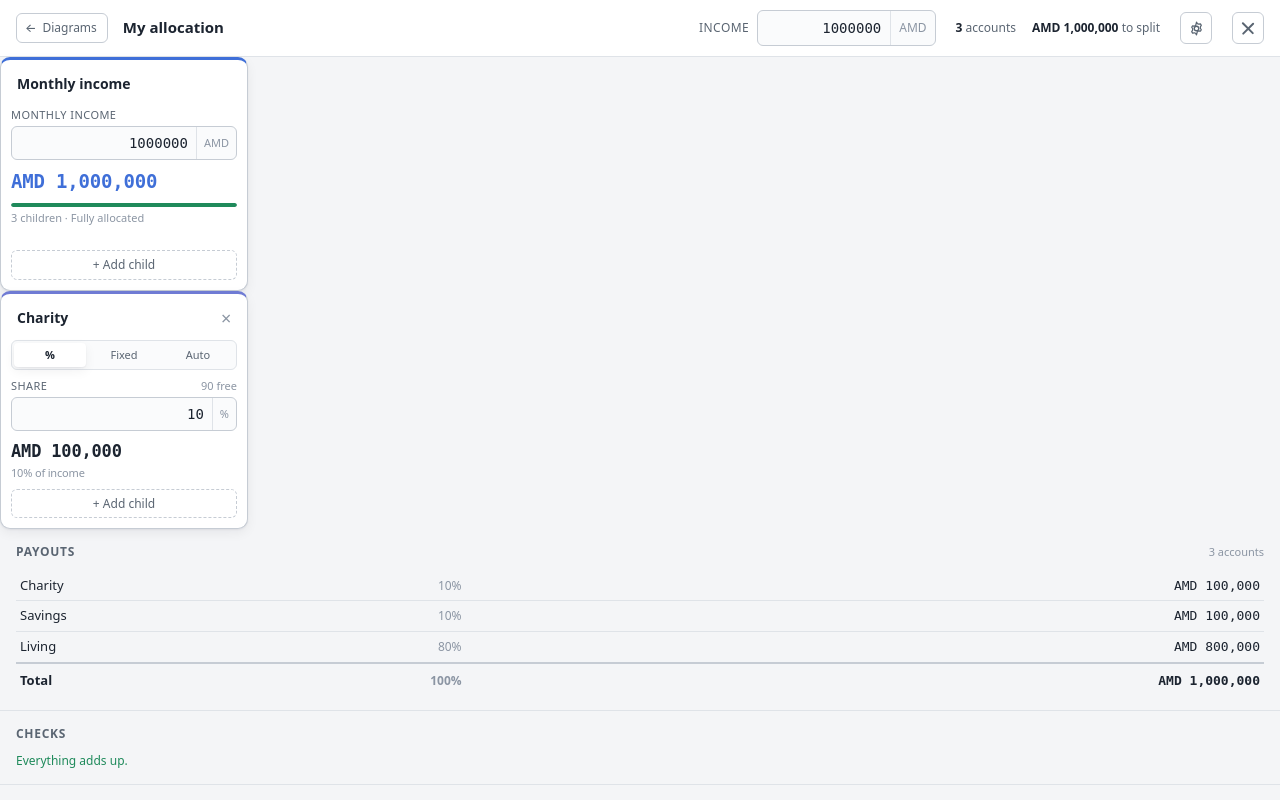
Scenario: editing a node › switches to a fixed amount and takes it off the top
Click the button "Fixed".
click(124, 355)  # box [88,343,160,367]
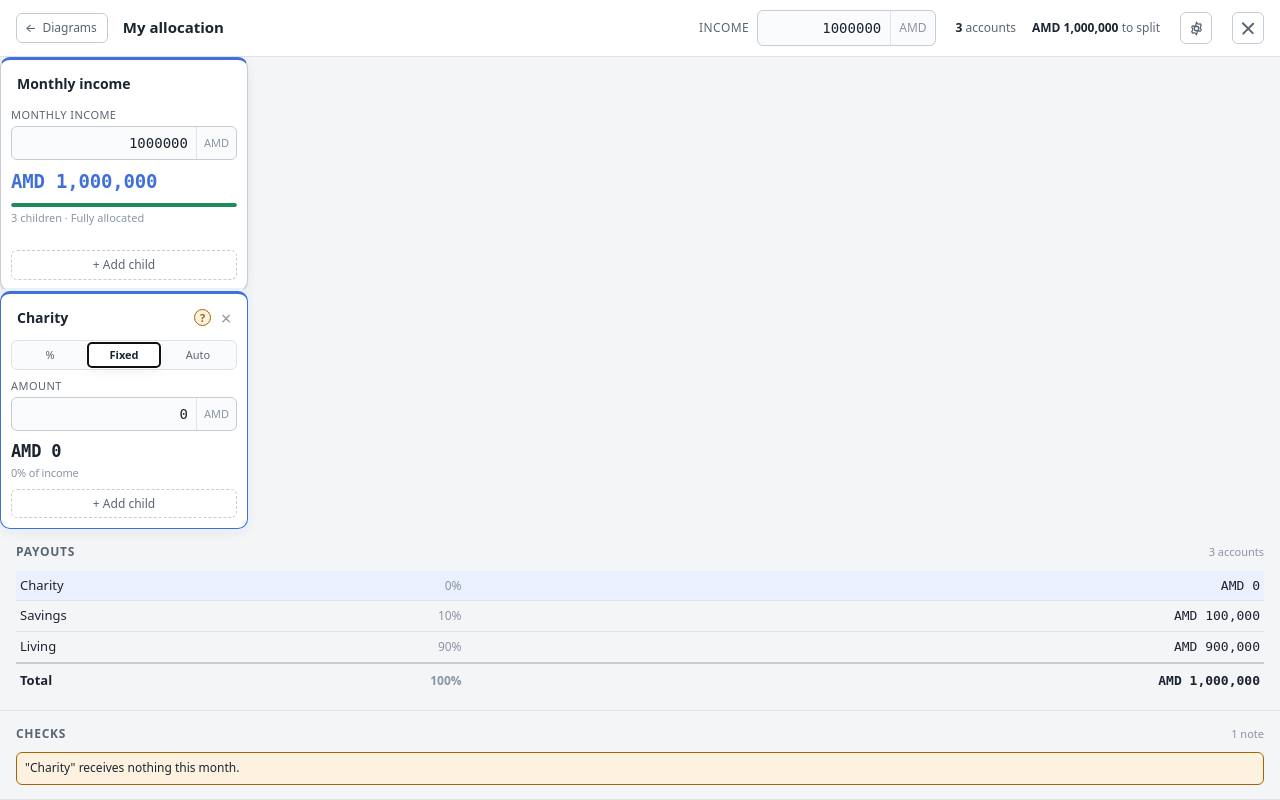
Type "250000" into the field named "Fixed amount".
click(104, 414); type("250000")  # box [12,398,196,430]
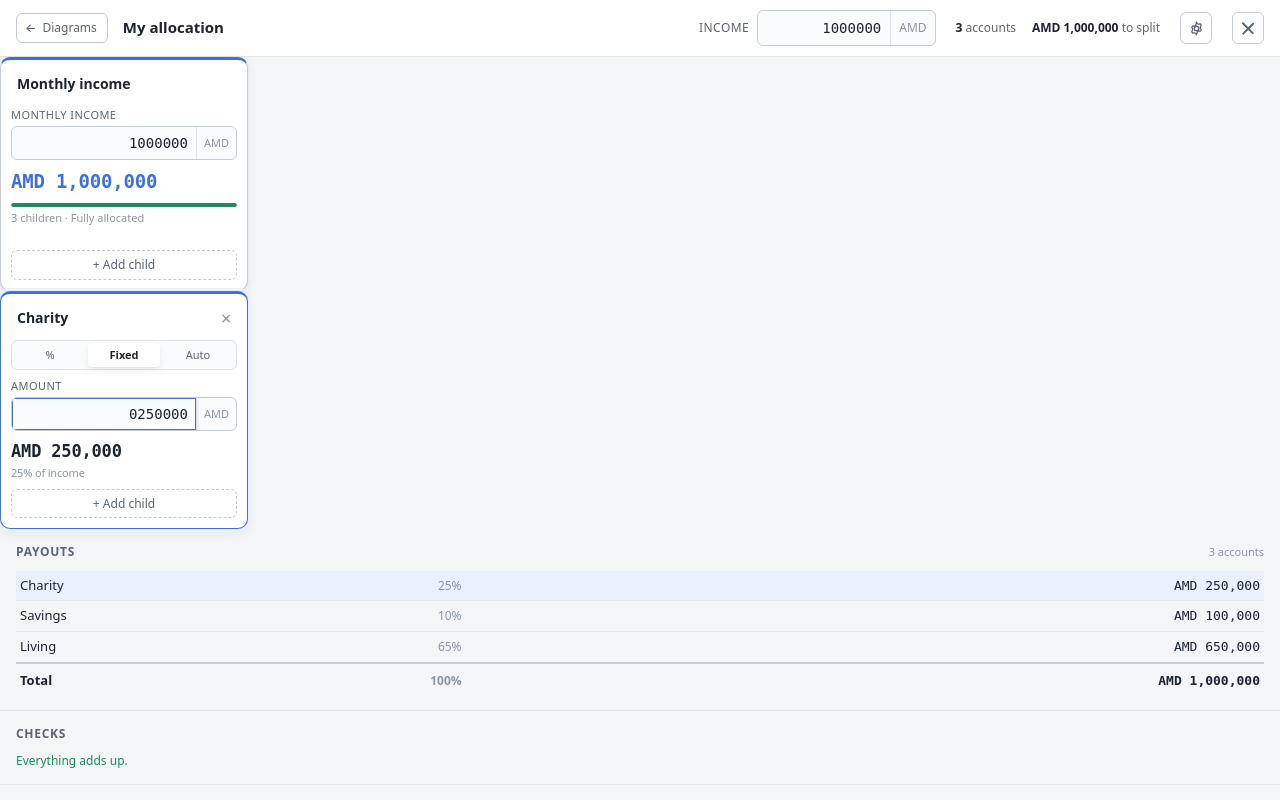
Expected: the text "AMD 100,000" is shown, [466,601,1264,632]
Now the text "AMD 250,000" is shown, box [466,571,1264,601]
Now the text "AMD 650,000" is shown, box [466,632,1264,663]
